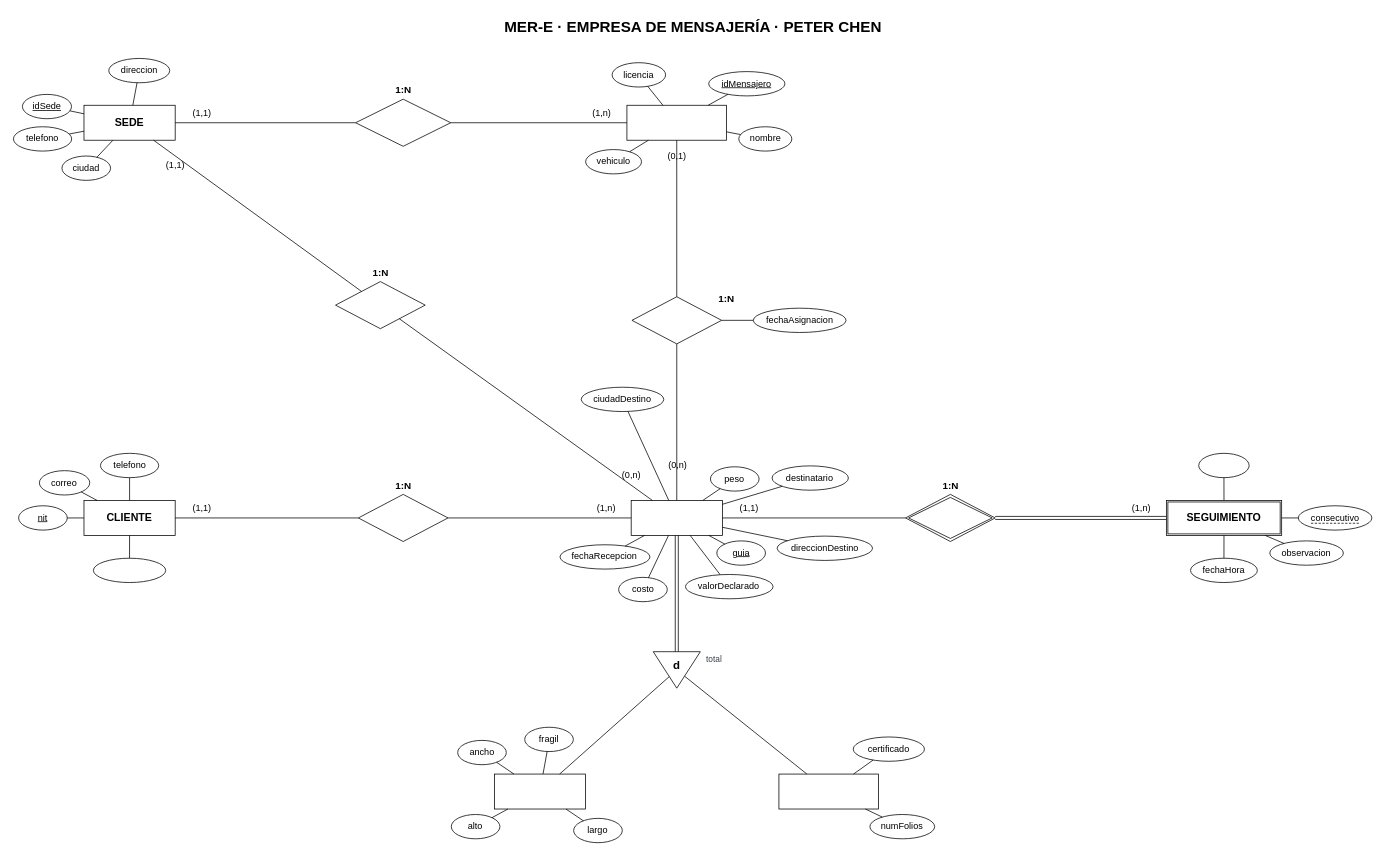
This 1385x857 diagram has some shape labels left out. Here are the shapes that lost their labels. From the top down, the centre of each, then its label:
At (x=403, y=122): "pertenecer".
At (x=676, y=122): "MENSAJERO".
At (x=380, y=305): "recibir".
At (x=676, y=320): "asignar".
At (x=1223, y=465): "estado".
At (x=403, y=518): "enviar".
At (x=676, y=517): "ENVIO".
At (x=950, y=518): "registrar".
At (x=129, y=570): "razonSocial".
At (x=540, y=791): "PAQUETE".
At (x=828, y=791): "DOCUMENTO".
